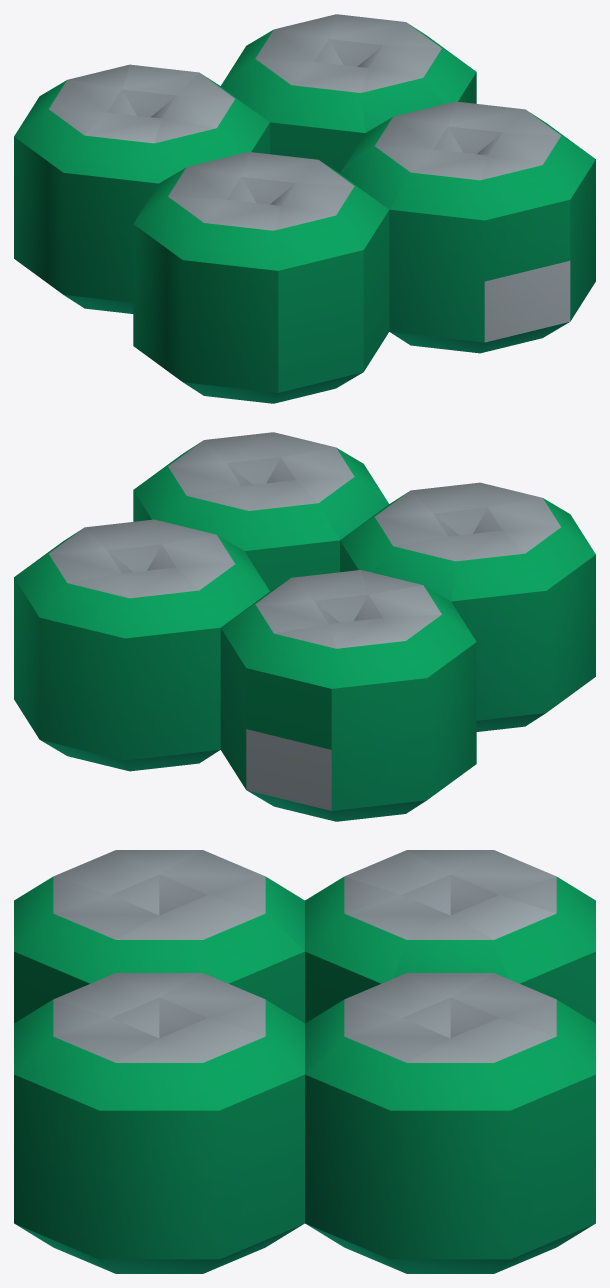
Rendered from kaykit_containers_a.glb.
3 views of the same model, one above another, from view 1: azimuth 30°, elevation 25°; view 2: azimuth 150°, elevation 25°; view 3: azimuth 270°, elevation 25° (orthographic). The views are drawn at different scales.
Parts seen in each view (by area): view 1: containers_A; view 2: containers_A; view 3: containers_A.
Part boxes in pixels (left/top/right/bottom): containers_A: left=14, top=14, right=595, bottom=403; containers_A: left=14, top=432, right=595, bottom=821; containers_A: left=14, top=850, right=595, bottom=1273.
Size of the model in its own units: 0.5 by 0.2 by 0.5.
1 material, 1 textured.
